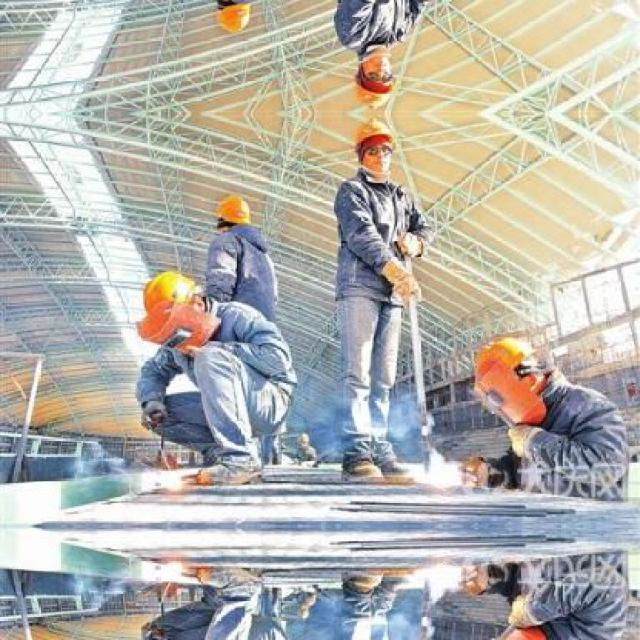helmet: (137, 265, 206, 338), (475, 335, 537, 391), (350, 118, 404, 180), (350, 45, 404, 106), (212, 190, 252, 235), (212, 0, 253, 35)
